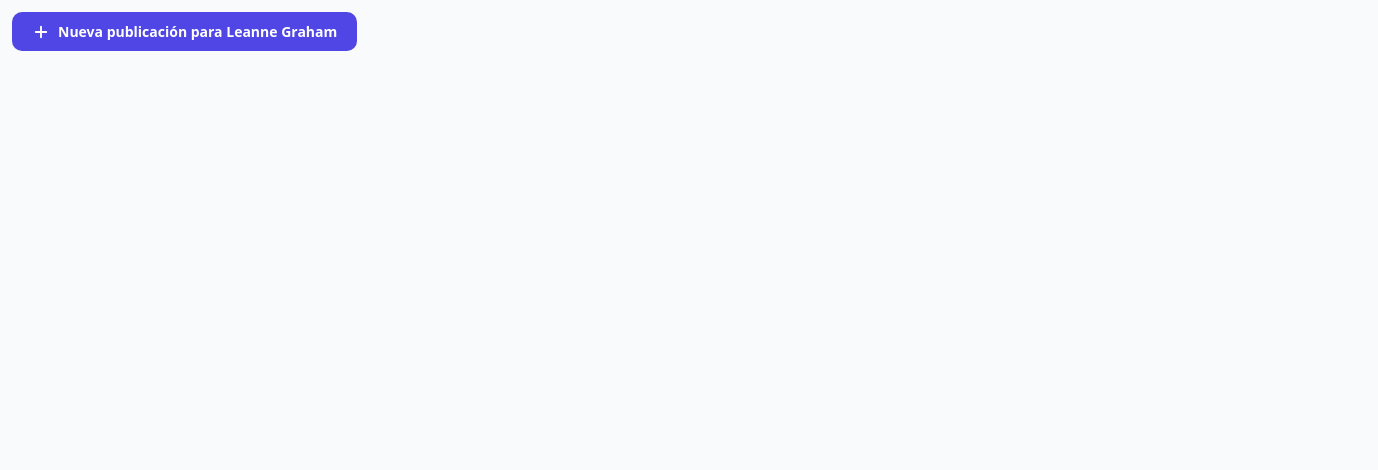
Test: CreatePostForm › valida que el título y el cuerpo sean obligatorios antes de enviar
The image size is (1378, 470).
What coordinates should you click on to do the following:
click the button "Nueva publicación para Leanne Graham"
I would click on:
 (185, 32)
Its box is top-left (12, 12), bottom-right (357, 51).
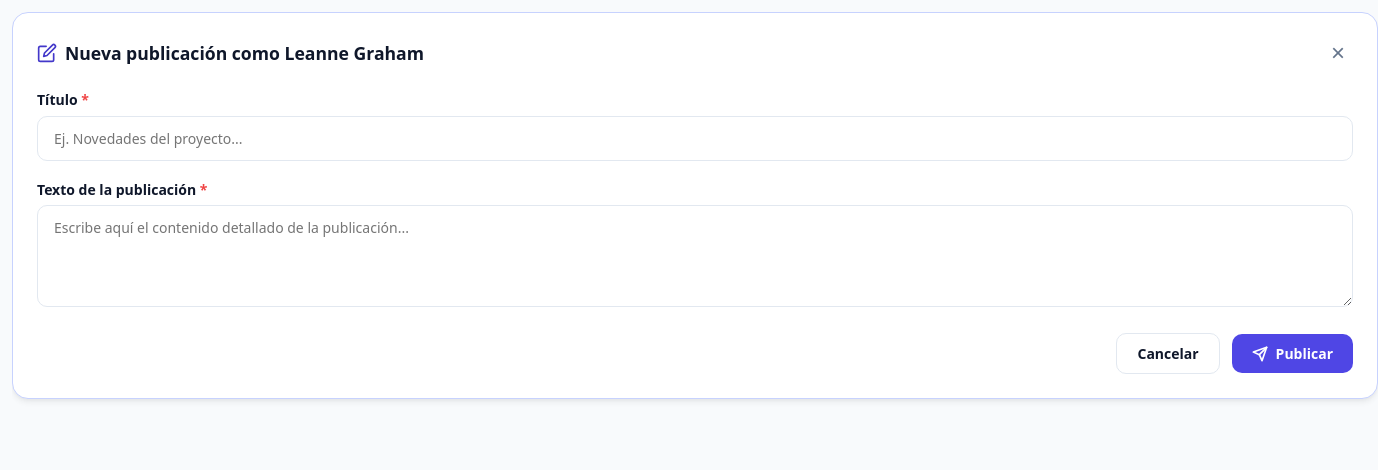
# Intentar enviar vacío
What coordinates should you click on to do the following:
click the button "Publicar"
I would click on:
 (1292, 354)
Its box is top-left (1232, 334), bottom-right (1353, 373).
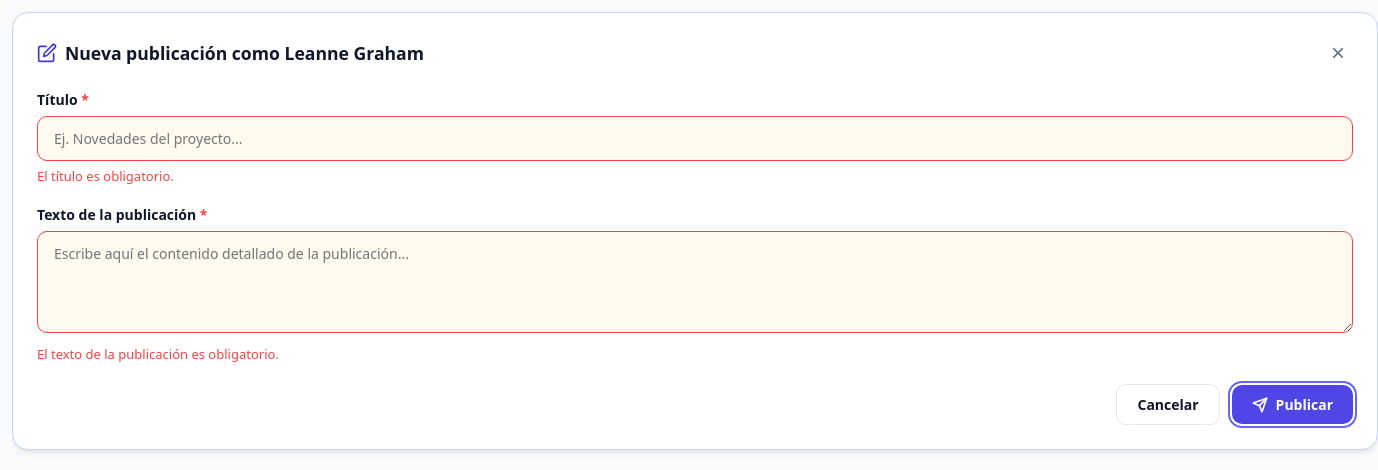
expect the text "El título es obligatorio." is shown: met, box top-left (37, 167), bottom-right (174, 185)
expect the text "El texto de la publicación es obligatorio." is shown: met, box top-left (37, 345), bottom-right (279, 363)
